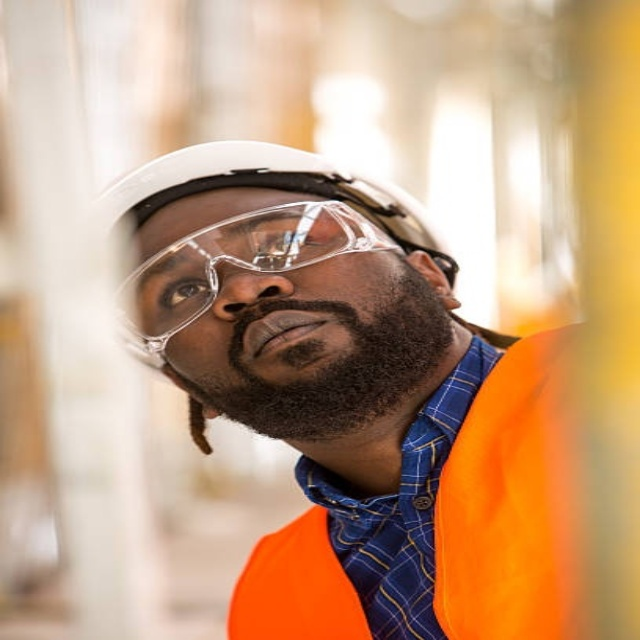Gafas: (114, 199, 413, 363)
Sin_mascara: (224, 311, 351, 384)
